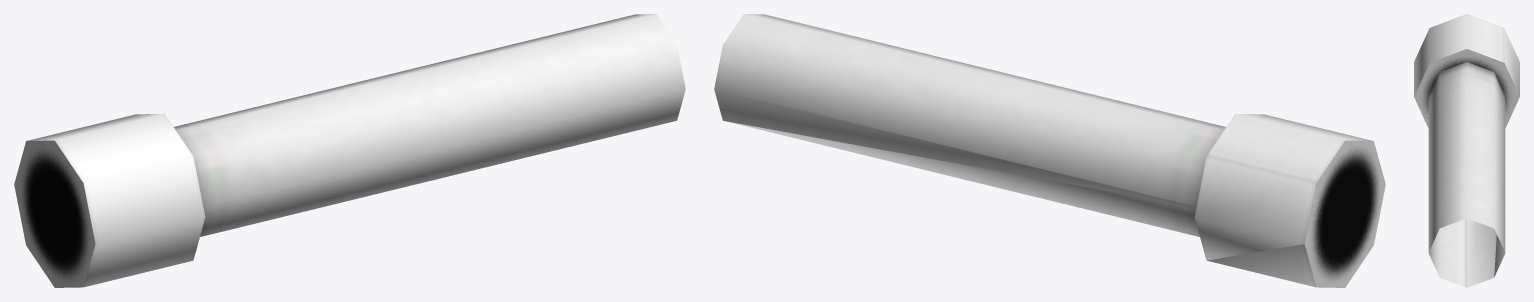
The model's file is Electric_Pipe_32.FBX.
3 renders of one model, left to right at view 1: azimuth 30°, elevation 25°; view 2: azimuth 150°, elevation 25°; view 3: azimuth 270°, elevation 25°, orthographic. The views are drawn at different scales.
Visible parts, largest first — view 1: Electric_Pipe_32; view 2: Electric_Pipe_32; view 3: Electric_Pipe_32.
Boxes of the visible parts, <box> form: Electric_Pipe_32: <box>14,14,685,287</box>; Electric_Pipe_32: <box>714,14,1385,287</box>; Electric_Pipe_32: <box>1414,14,1519,287</box>.
Bounding box in the file's own units: 32 × 7.49 × 7.49.
1 material, 1 textured.
